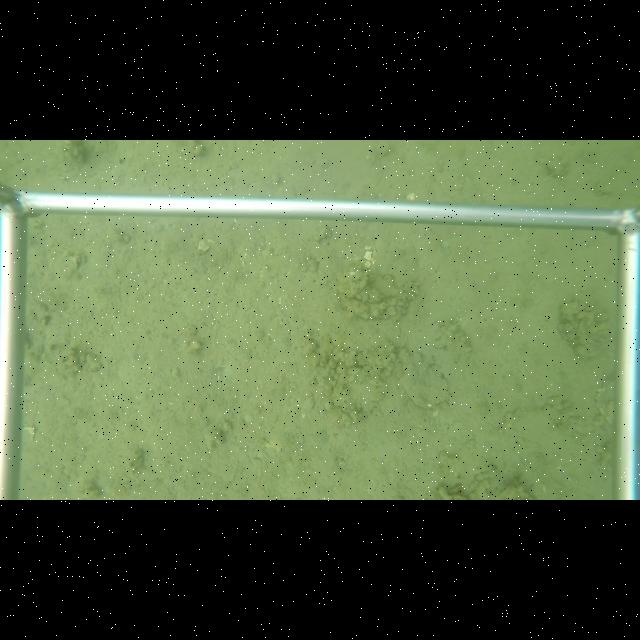Oyster-Closed: (391, 346, 452, 410), (590, 371, 614, 429)
